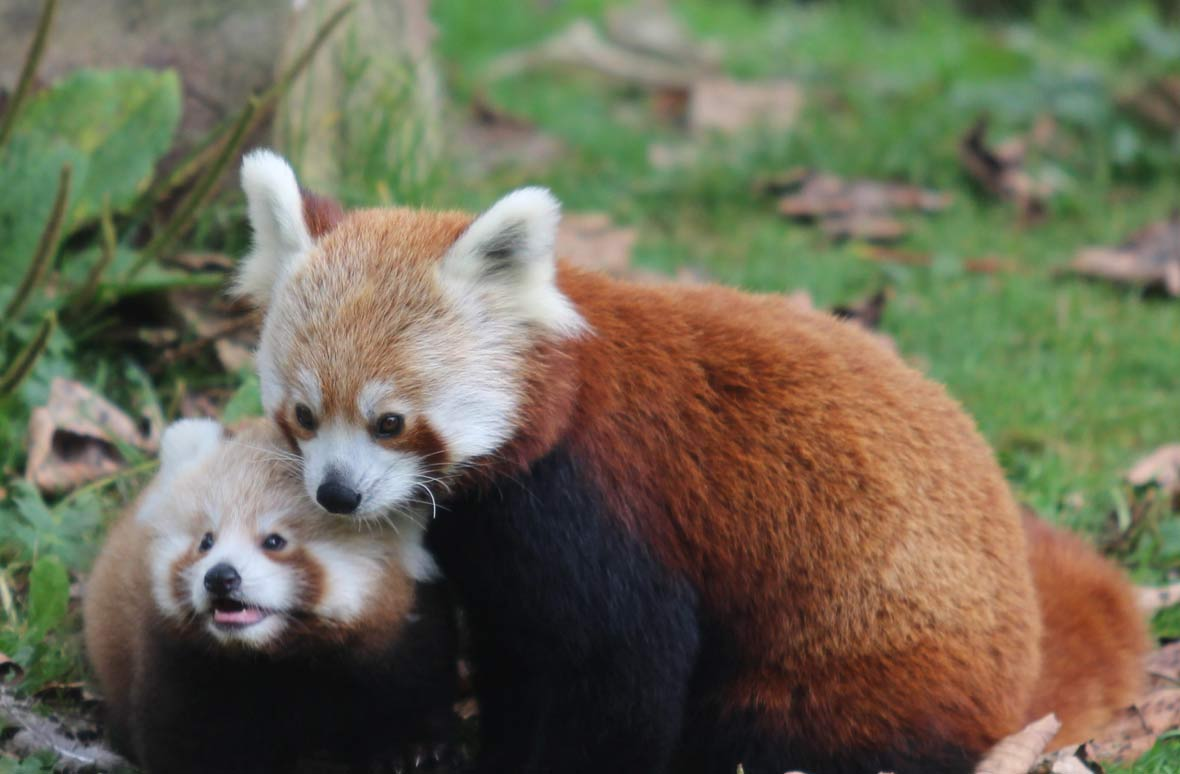red_panda: (260, 142, 1148, 774), (79, 422, 441, 774)
